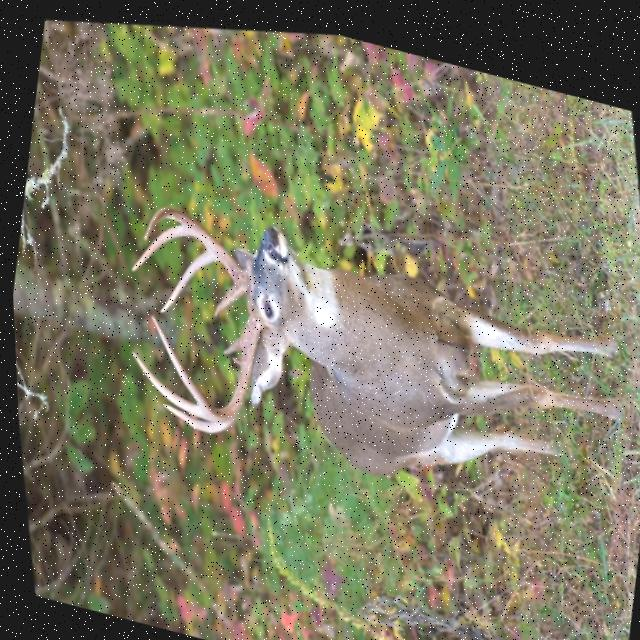E1: (229, 348, 238, 360)
L-F: (148, 308, 262, 417)
L-G1: (220, 322, 243, 349)
L-G3: (128, 347, 204, 415)
R-G1: (211, 279, 240, 312)
R-G2: (156, 243, 216, 309)
R-G3: (128, 219, 195, 268)
